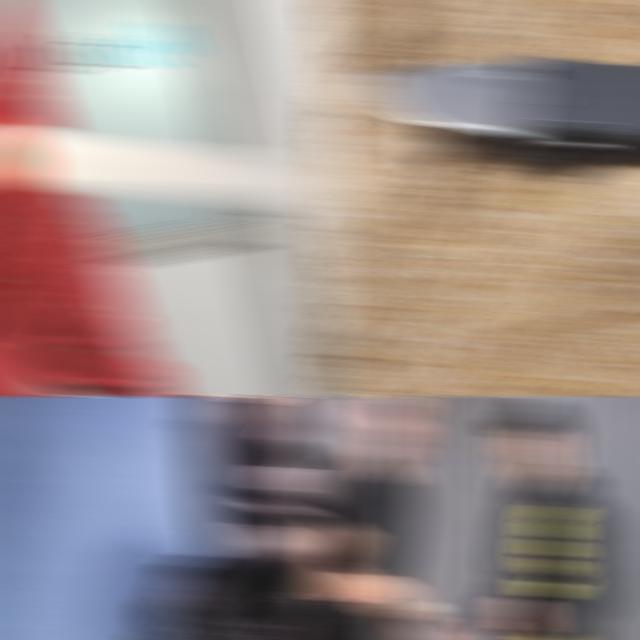Knife: (0, 119, 295, 198)
Knife_Handle: (361, 582, 434, 620), (453, 611, 509, 640)
